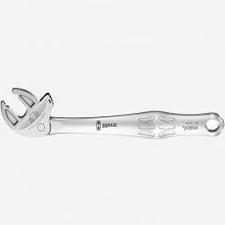Wrench: (1, 81, 225, 150)
